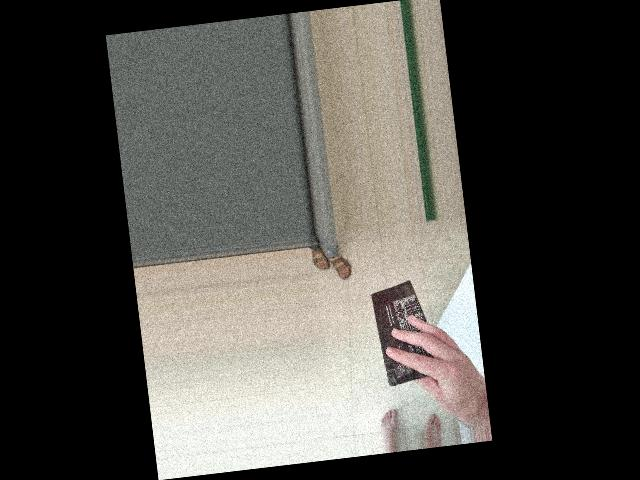chocolate: (366, 276, 438, 393)
